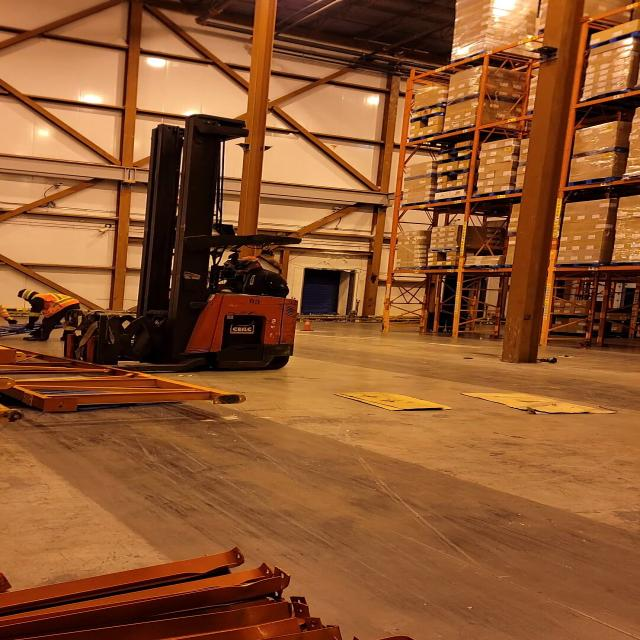forklift: (56, 122, 300, 375)
human: (208, 251, 303, 302), (19, 286, 91, 344)
objectofinterest: (0, 345, 246, 413), (459, 388, 616, 417), (332, 387, 458, 414), (0, 320, 56, 339)
